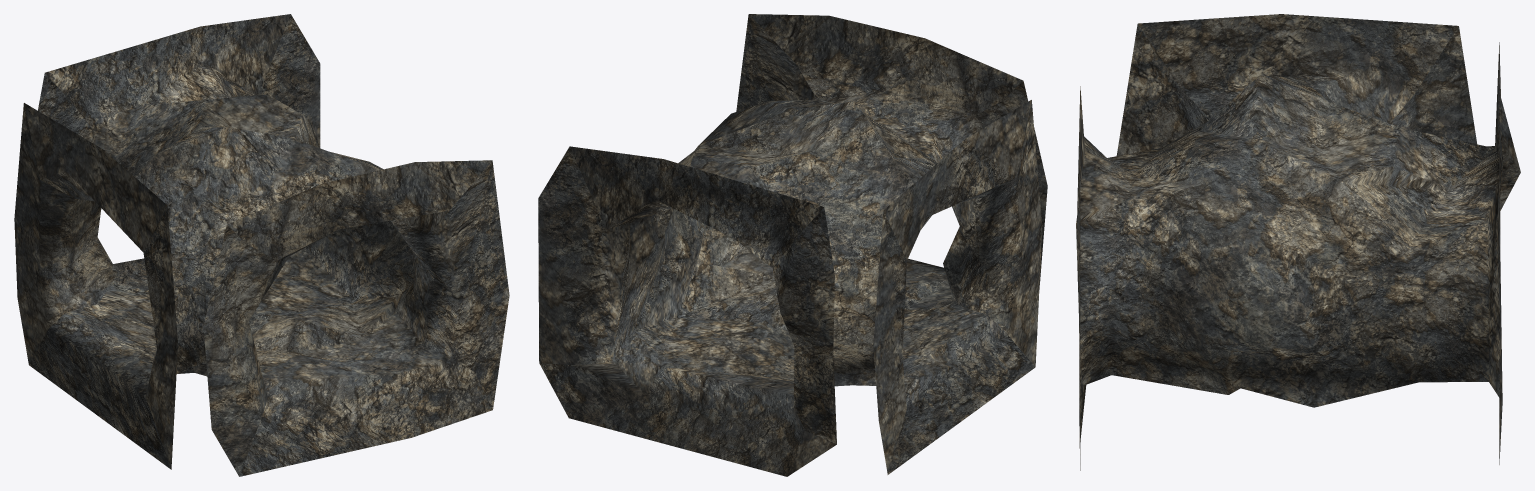
Rendered from Module8_LOD2.fbx.
3 views of the same model, side by side, from view 1: azimuth 30°, elevation 25°; view 2: azimuth 150°, elevation 25°; view 3: azimuth 270°, elevation 25° (orthographic). The views are drawn at different scales.
Parts seen in each view (by area): view 1: cave_el8_800_Group26003; view 2: cave_el8_800_Group26003; view 3: cave_el8_800_Group26003.
Part boxes in pixels (bbox=[...]): cave_el8_800_Group26003: bbox=[14, 14, 509, 476]; cave_el8_800_Group26003: bbox=[538, 14, 1047, 476]; cave_el8_800_Group26003: bbox=[1076, 14, 1520, 470].
Size of the model in its own units: 9.9 by 8.26 by 10.62.
